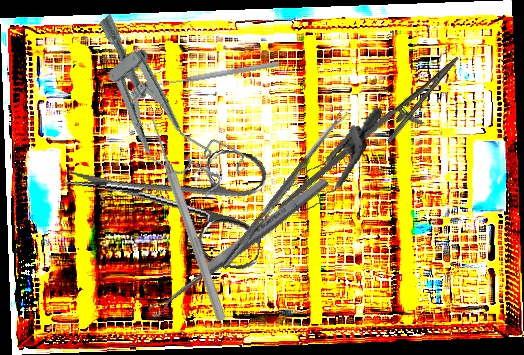Iris Scissors: (53, 123, 276, 272)
Needle Holder: (276, 36, 473, 242)
Pusher: (145, 113, 229, 323), (157, 59, 280, 89)
Speculum: (63, 3, 252, 212), (277, 91, 383, 227)
Surgical Spoon: (146, 174, 331, 320), (219, 108, 350, 271)
